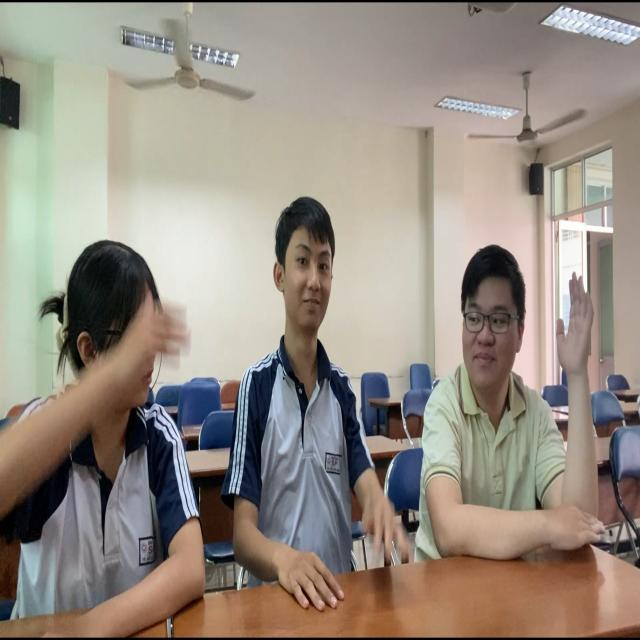raise_hand: (413, 240, 613, 568)
